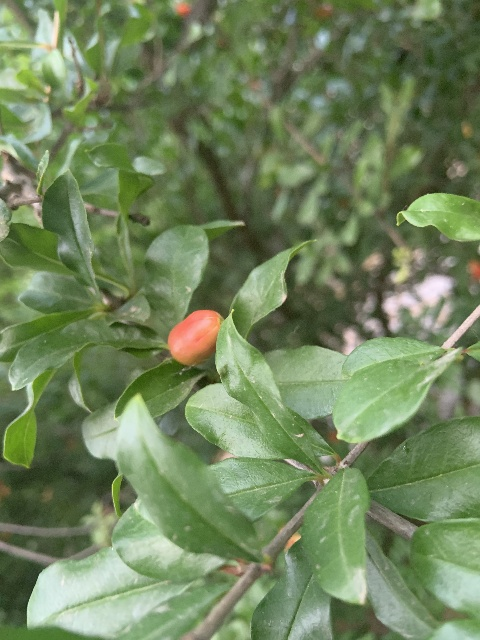bud: (168, 309, 221, 366)
